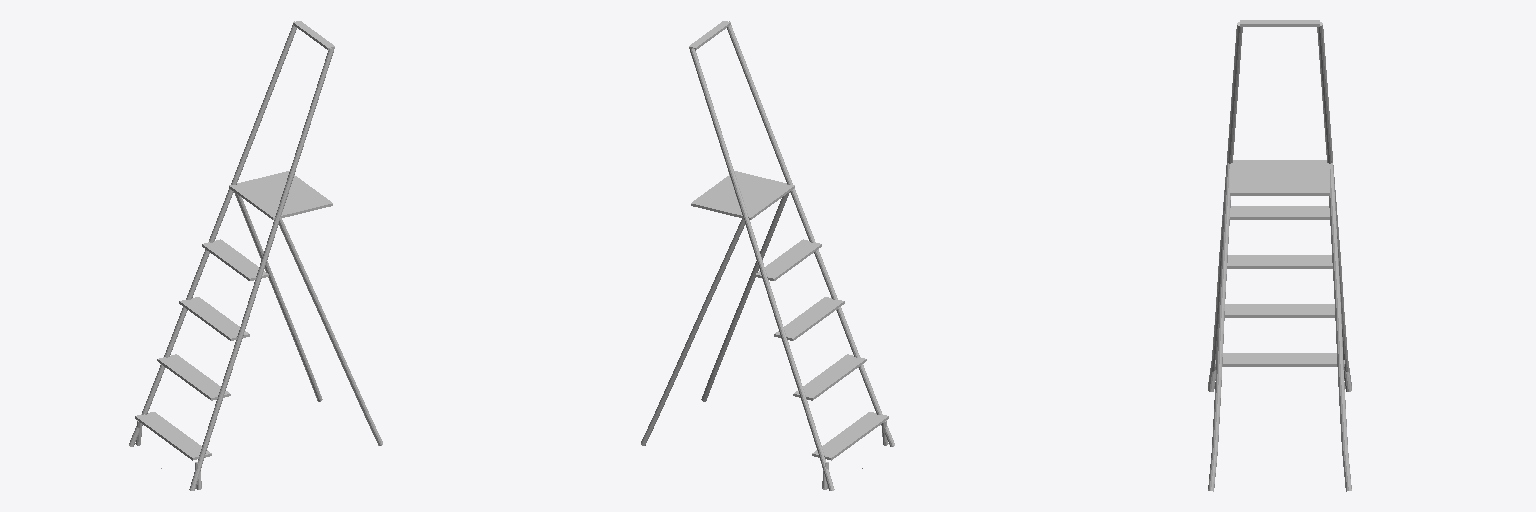
URDF robot description (alinco-tbf-5-ladder_fixed):
<?xml version="1.0"?>
<robot name="alinco-tbf-5-ladder_fixed"
       xmlns:xi="http://www.w3.org/2001/XInclude"
       >
  <gazebo>
    <static>false</static>
  </gazebo>
  <link name="nil_link">
    <visual>
      <origin xyz="0 0 0" rpy="0 -0 0"/>
      <geometry>
        <mesh filename="model://alinco-tbf-5-ladder/meshes/nil_link_mesh.dae" scale="1 1 1" />
      </geometry>
    </visual>
    <collision>
      <origin xyz="0 0 0" rpy="0 -0 0"/>
      <geometry>
        <mesh filename="model://alinco-tbf-5-ladder/meshes/nil_link_mesh.dae" scale="1 1 1" />
      </geometry>
    </collision>
    <inertial>
      <mass value="0.001" />
      <origin xyz="0 0 0" rpy="0 -0 0"/>
      <inertia ixx="1e-03" ixy="0" ixz="0" iyy="1e-03" iyz="0" izz="1e-03"/>
    </inertial>
  </link>
  <gazebo reference="nil_link">
    <mu1>0.9</mu1>
    <mu2>0.9</mu2>
  </gazebo>
  <!-- Used for fixing robot to Gazebo 'base_link' -->
  <link name="world"/>
  <joint name="fixed" type="fixed">
    <parent link="world"/>
    <child link="nil_link"/>
  </joint>
</robot>

--- Render facts (derived) ---
The picture shows the robot from 3 angles, left to right: view 1: azimuth 30°, elevation 25°; view 2: azimuth 150°, elevation 25°; view 3: azimuth 270°, elevation 25°; orthographic projection.
Model alinco-tbf-5-ladder_fixed with 2 links and 1 joints (1 fixed), rooted at world, posed every joint at zero.
Links seen in each view (by area): view 1: nil_link; view 2: nil_link; view 3: nil_link.
Boxes of the visible links, bbox=[...] form: nil_link: bbox=[129, 21, 382, 490]; nil_link: bbox=[641, 21, 894, 490]; nil_link: bbox=[1208, 20, 1351, 491].
Size in the robot's own frame: 0.8056 by 0.4599 by 1.58 metres.
1 mesh visuals loaded from 1 distinct referenced files (1 Collada DAE).